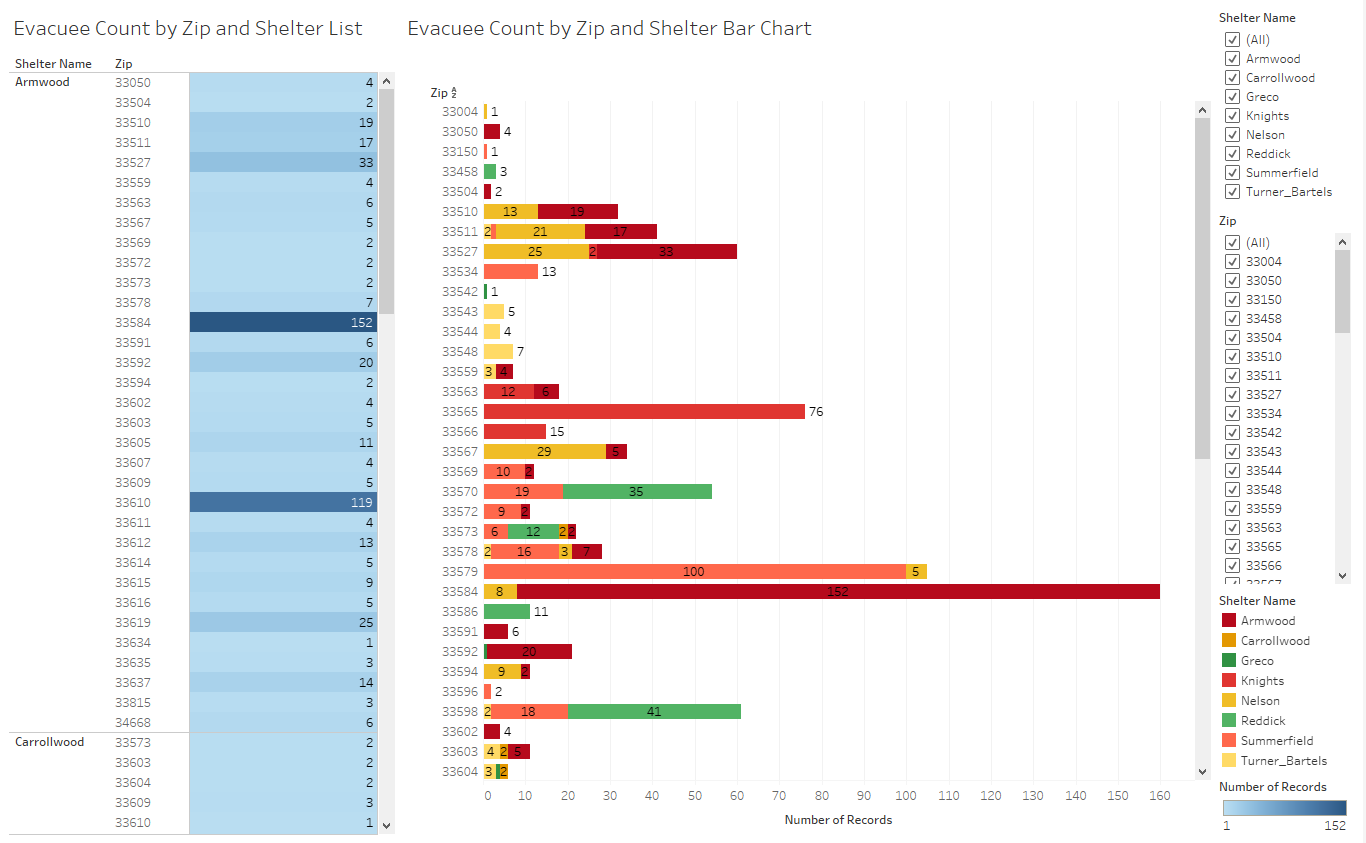

What the dashboard file says about the page in this screenshot:
{"tool":"tableau","page":{"name":"Evacuee Count by Zip and Shelter","canvas":[1366,850],"ordinal":3},"visuals":[{"type":"worksheet","title":"Evacuee Count by Zip and Shelter List","mark":"Square","rows":["shelter_name","Zip"],"box":[8,8,393.5,834]},{"type":"worksheet","title":"Evacuee Count by Zip and Shelter Bar Chart","mark":"Automatic","rows":["Zip"],"cols":["Number of Records"],"box":[401.5,8,816.5,834]},{"type":"filter","title":"Evacuee Count by Zip and Shelter List","param":"[federated.15be31n0i91izv1g0m27v0riro1y].[none:shelter_name:nk]","box":[1218,8,140,203]},{"type":"filter","title":"Evacuee Count by Zip and Shelter Bar Chart","param":"[federated.15be31n0i91izv1g0m27v0riro1y].[none:Zip:ok]","box":[1218,211,140,380]},{"type":"legend","title":"Evacuee Count by Zip and Shelter Bar Chart","param":"[federated.15be31n0i91izv1g0m27v0riro1y].[none:shelter_name:nk]","box":[1218,591,140,186]},{"type":"legend","title":"Evacuee Count by Zip and Shelter List","param":"[federated.15be31n0i91izv1g0m27v0riro1y].[sum:Number of Records:qk]","box":[1218,777,140,65]}]}

Visuals, with their boxes in screenshot pixels (x1, y1, x2, y2), scaled from the page's 1366x850 canvas onto the 1366x843 screenshot:
"Evacuee Count by Zip and Shelter List" worksheet (Square marks): left=8, top=8, right=402, bottom=835
"Evacuee Count by Zip and Shelter Bar Chart" worksheet: left=402, top=8, right=1218, bottom=835
"Evacuee Count by Zip and Shelter List" filter: left=1218, top=8, right=1358, bottom=209
"Evacuee Count by Zip and Shelter Bar Chart" filter: left=1218, top=209, right=1358, bottom=586
"Evacuee Count by Zip and Shelter Bar Chart" legend: left=1218, top=586, right=1358, bottom=771
"Evacuee Count by Zip and Shelter List" legend: left=1218, top=771, right=1358, bottom=835
